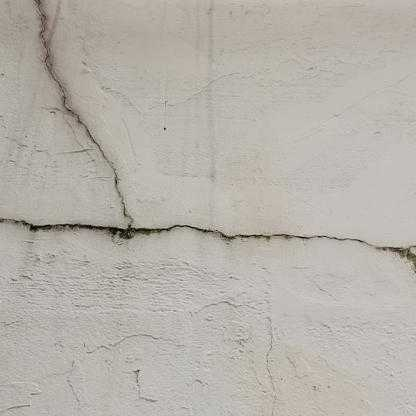crack: (1, 1, 392, 252)
